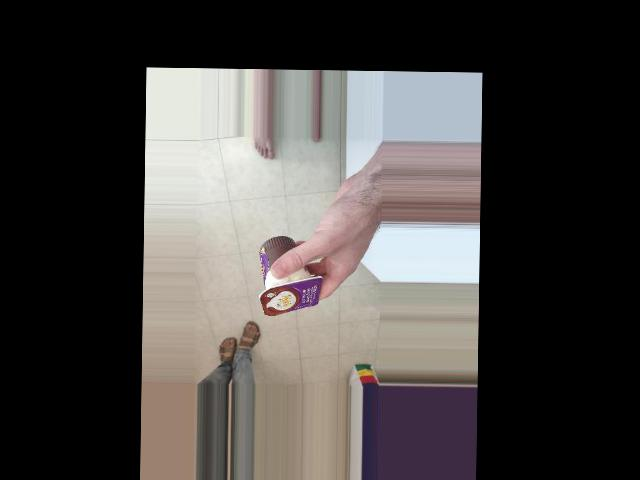milky: (217, 262, 309, 323)
